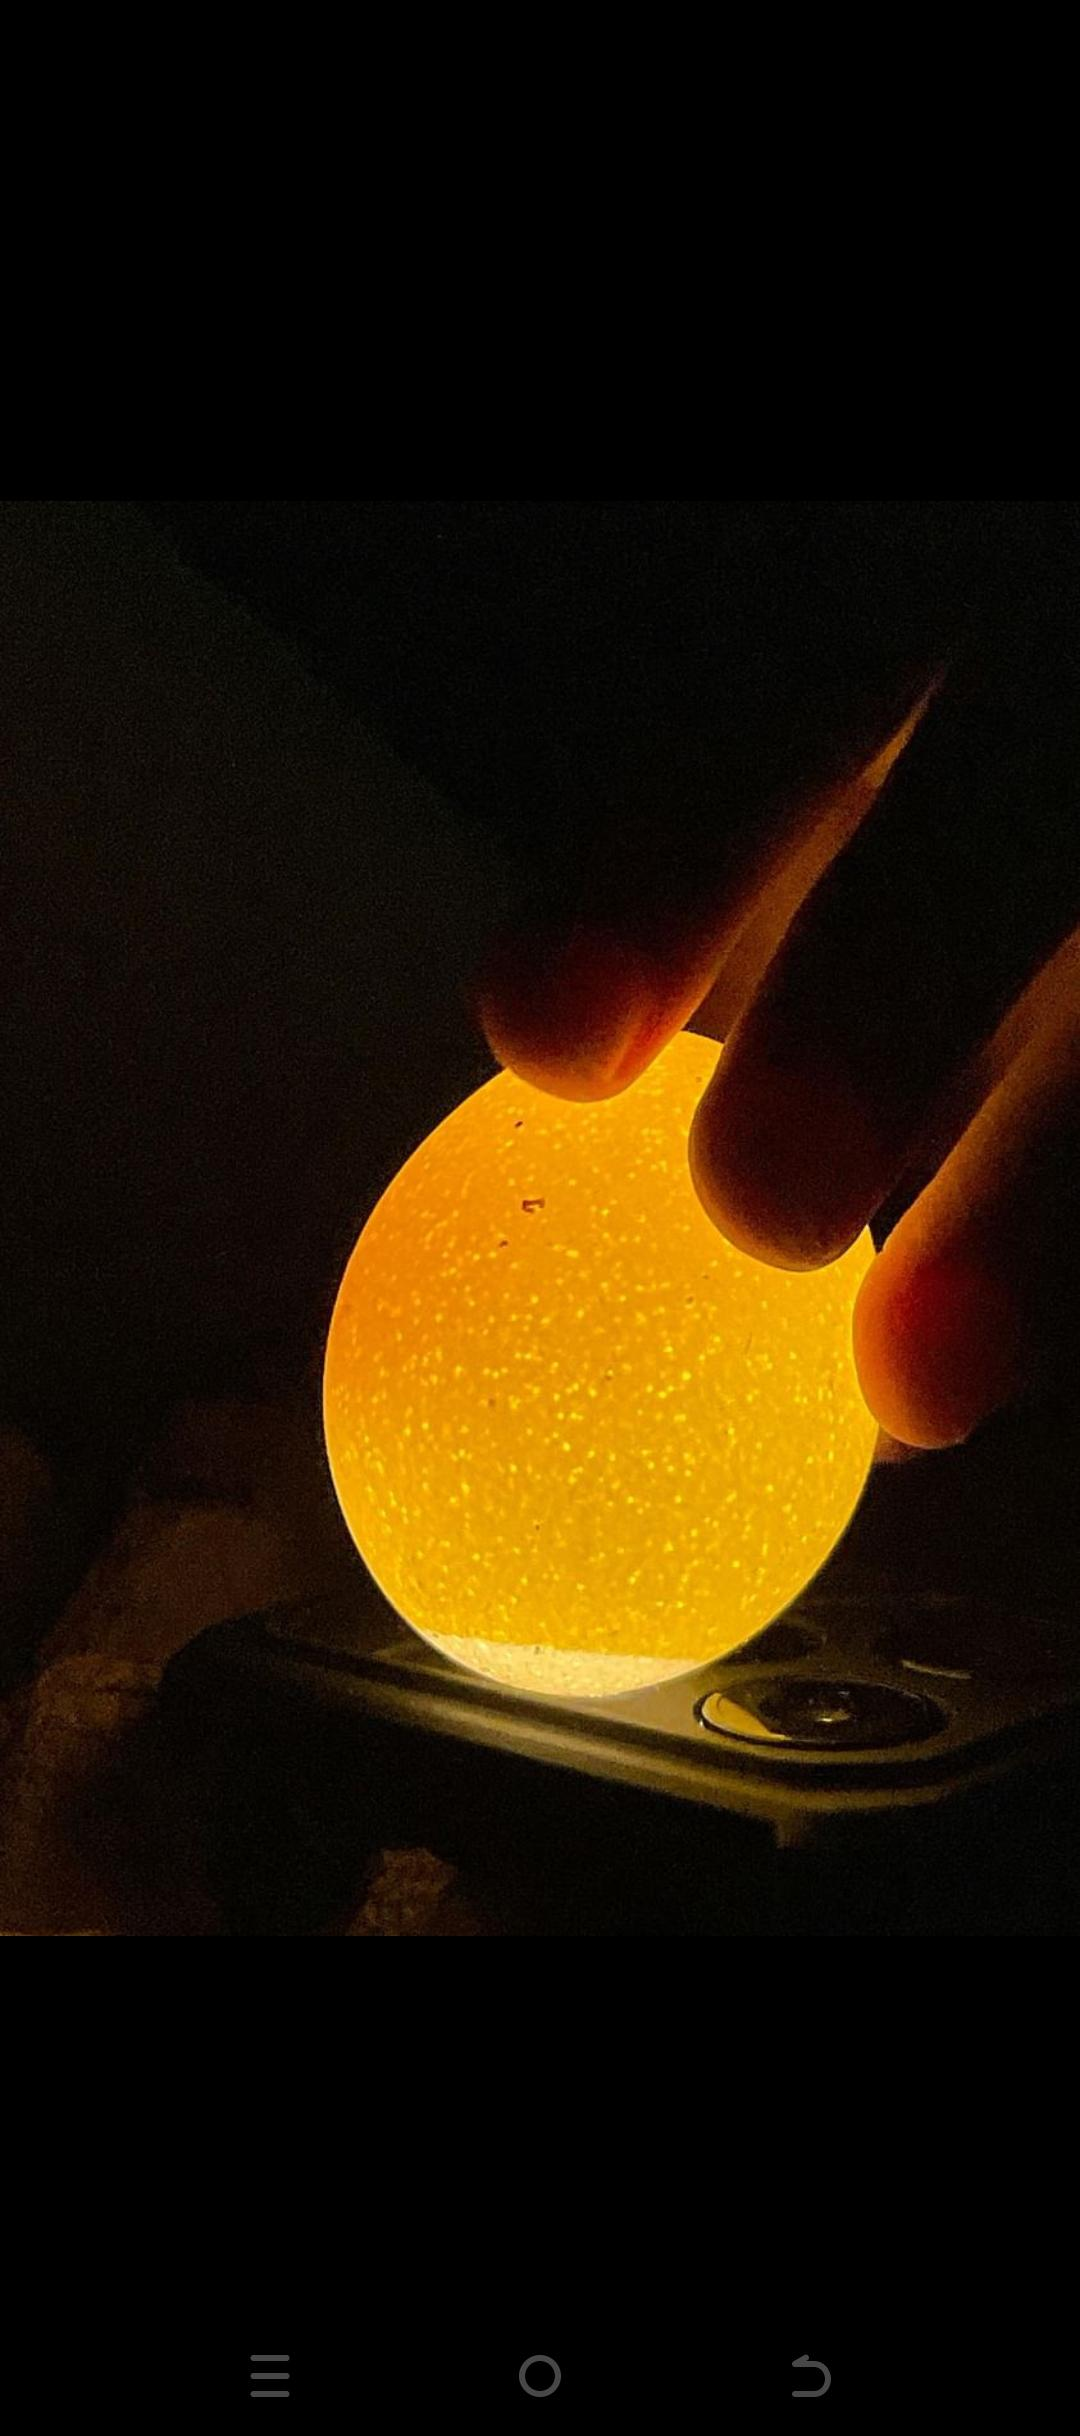AA - Premium: (306, 1010, 894, 1734)
